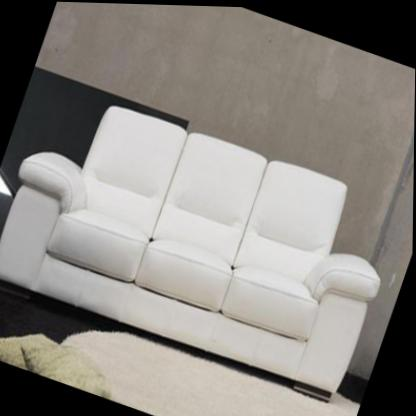Sofa: (0, 74, 409, 407)
